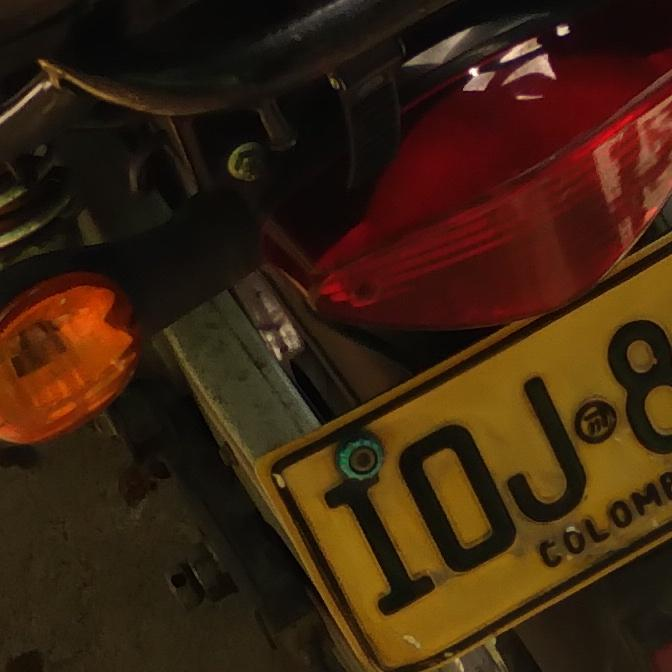plates: (256, 234, 672, 672)
